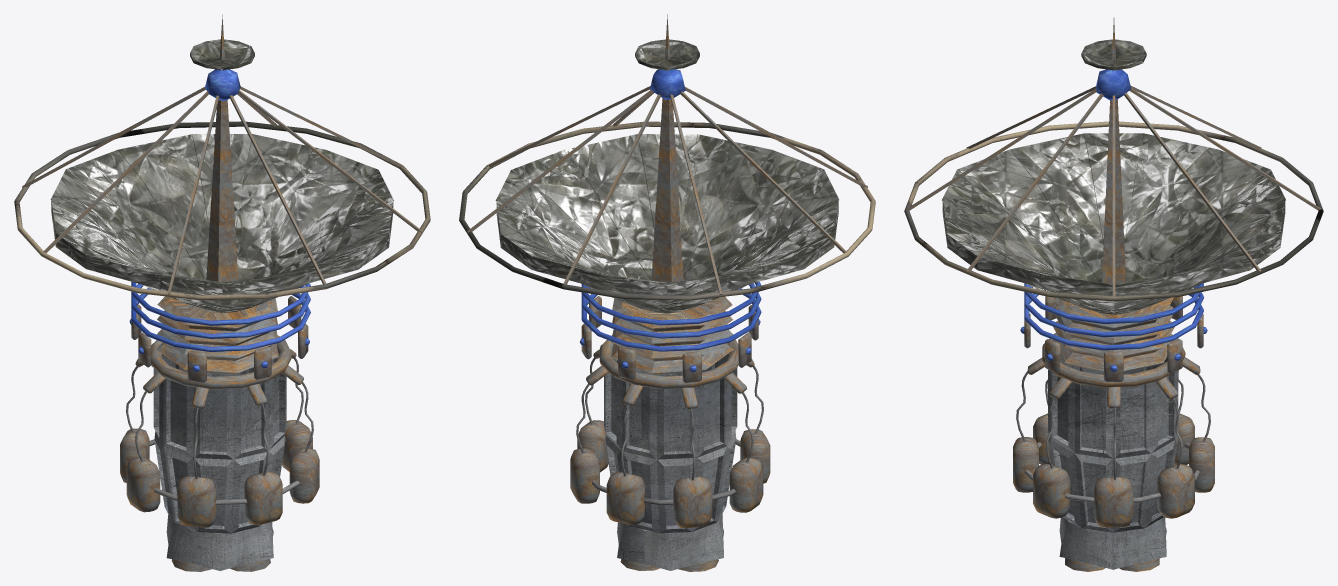
File: Satélite.FBX
The picture shows the model from 3 angles, left to right: view 1: azimuth 30°, elevation 25°; view 2: azimuth 150°, elevation 25°; view 3: azimuth 270°, elevation 25°; orthographic projection.
Parts seen in each view (by area): view 1: Parabolica, Cylinder001, Mola, Torus004, Pyramid001, Cylinder004, Torus001, ChamferBox008, ChamferBox007, ChamferBox001, Cylinder003, ChamferBox006 (+14 smaller); view 2: Parabolica, Cylinder001, Mola, Torus004, Pyramid001, Cylinder004, Torus001, ChamferBox002, ChamferBox003, ChamferBox001, Cylinder003, ChamferBox004 (+14 smaller); view 3: Parabolica, Cylinder001, Torus004, Mola, Cylinder004, Pyramid001, ChamferBox005, ChamferBox004, ChamferBox006, Cylinder003, Torus001, Torus003 (+14 smaller).
Boxes of the visible parts, bbox=[...] form: Parabolica: bbox=[50, 134, 393, 313]; Cylinder001: bbox=[153, 354, 286, 533]; Mola: bbox=[156, 296, 278, 374]; Torus004: bbox=[14, 121, 430, 300]; Pyramid001: bbox=[206, 14, 238, 283]; Cylinder004: bbox=[166, 515, 273, 570]; Torus001: bbox=[151, 335, 292, 389]; ChamferBox008: bbox=[177, 476, 216, 527]; ChamferBox007: bbox=[244, 471, 282, 524]; ChamferBox001: bbox=[126, 457, 160, 512]; Cylinder003: bbox=[190, 39, 254, 70]; ChamferBox006: bbox=[289, 448, 319, 503]; Parabolica: bbox=[495, 134, 839, 313]; Cylinder001: bbox=[604, 353, 737, 533]; Mola: bbox=[611, 296, 733, 374]; Torus004: bbox=[459, 121, 875, 300]; Pyramid001: bbox=[651, 14, 683, 283]; Cylinder004: bbox=[617, 514, 723, 570]; Torus001: bbox=[599, 335, 738, 389]; ChamferBox002: bbox=[673, 476, 712, 528]; ChamferBox003: bbox=[606, 472, 645, 525]; ChamferBox001: bbox=[729, 457, 763, 512]; Cylinder003: bbox=[635, 39, 699, 70]; ChamferBox004: bbox=[570, 448, 599, 503]; Parabolica: bbox=[942, 133, 1285, 314]; Cylinder001: bbox=[1048, 356, 1178, 532]; Torus004: bbox=[904, 121, 1323, 301]; Mola: bbox=[1052, 297, 1175, 371]; Cylinder004: bbox=[1059, 517, 1166, 569]; Pyramid001: bbox=[1102, 18, 1125, 283]; ChamferBox005: bbox=[1094, 477, 1133, 527]; ChamferBox004: bbox=[1157, 464, 1194, 518]; ChamferBox006: bbox=[1033, 464, 1070, 518]; Cylinder003: bbox=[1081, 39, 1146, 70]; Torus001: bbox=[1042, 333, 1185, 387]; Torus003: bbox=[1024, 293, 1203, 350].
Bounding box in the file's own units: 32.17 × 45.87 × 32.17.
